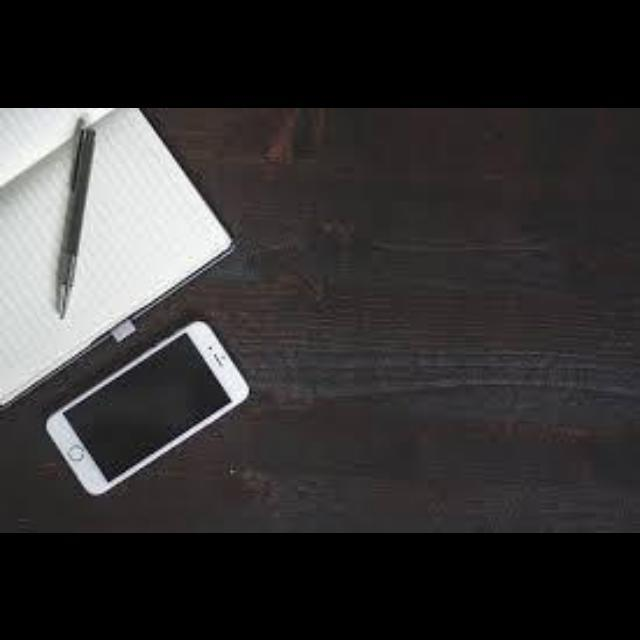Phone: (47, 322, 251, 498)
